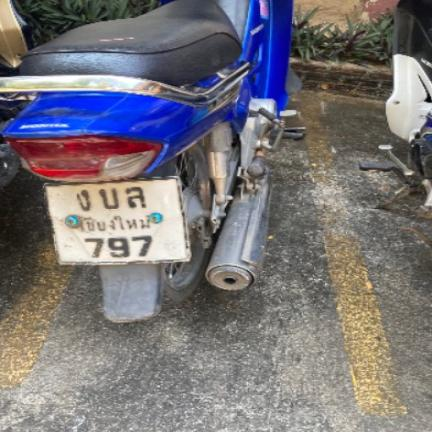7: (132, 235, 155, 256), (84, 237, 105, 258)
9: (106, 236, 133, 258)
A07: (71, 189, 93, 212)
A26: (96, 187, 122, 211)
A36: (123, 186, 149, 209)
CMI: (76, 214, 151, 231)
